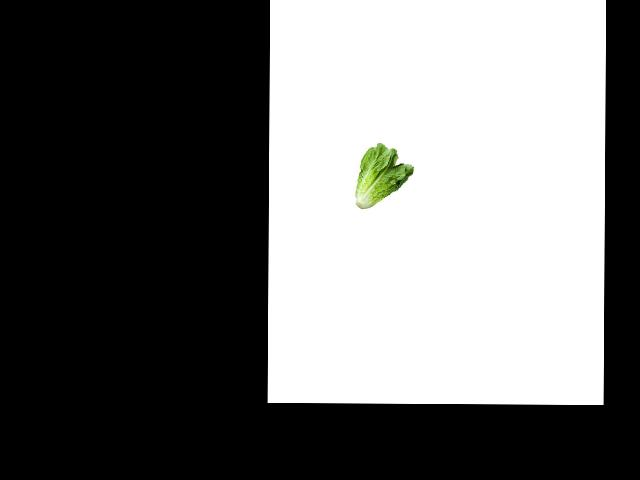lettuce: (349, 143, 416, 213)
